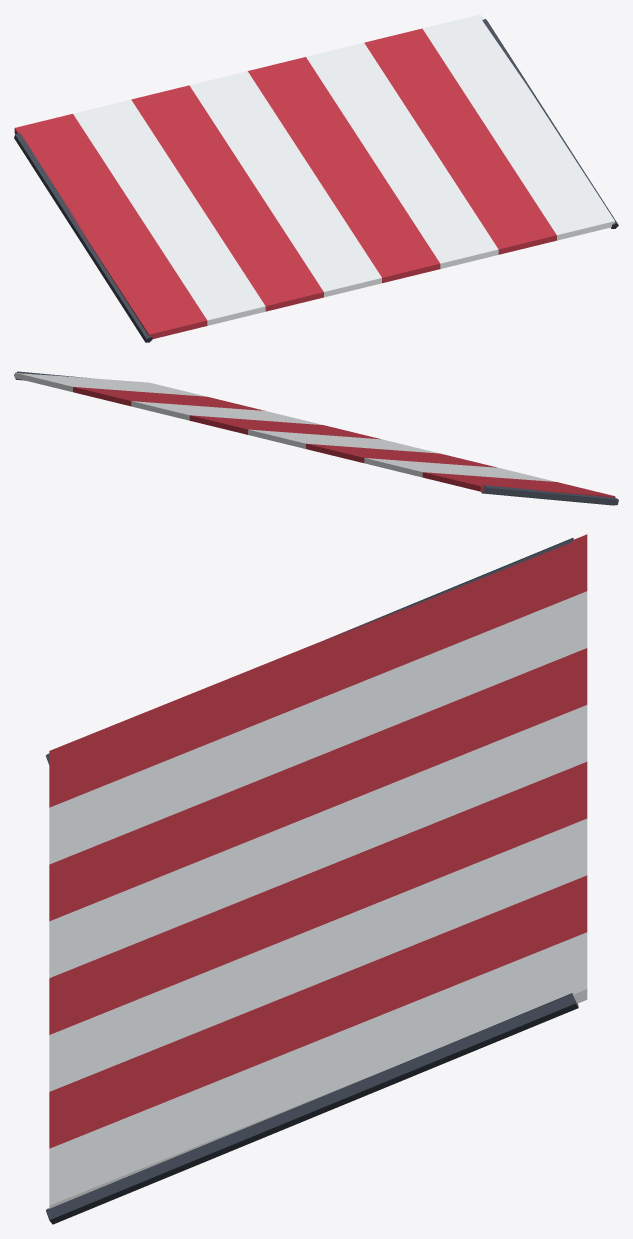
The model's file is awning_striped.glb.
The picture shows the model from 3 angles, top to bottom: view 1: azimuth 30°, elevation 25°; view 2: azimuth 150°, elevation 25°; view 3: azimuth 270°, elevation 25°; orthographic projection. The views are drawn at different scales.
Visible parts, largest first — view 1: awning_striped; view 2: awning_striped; view 3: awning_striped.
Part boxes in pixels (<box>): awning_striped: <box>14,14,618,342</box>; awning_striped: <box>14,371,618,505</box>; awning_striped: <box>46,534,587,1224</box>.
Bounding box in the file's own units: 1.83 × 0.433 × 0.9059.
